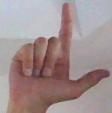L: (1, 0, 112, 113)
